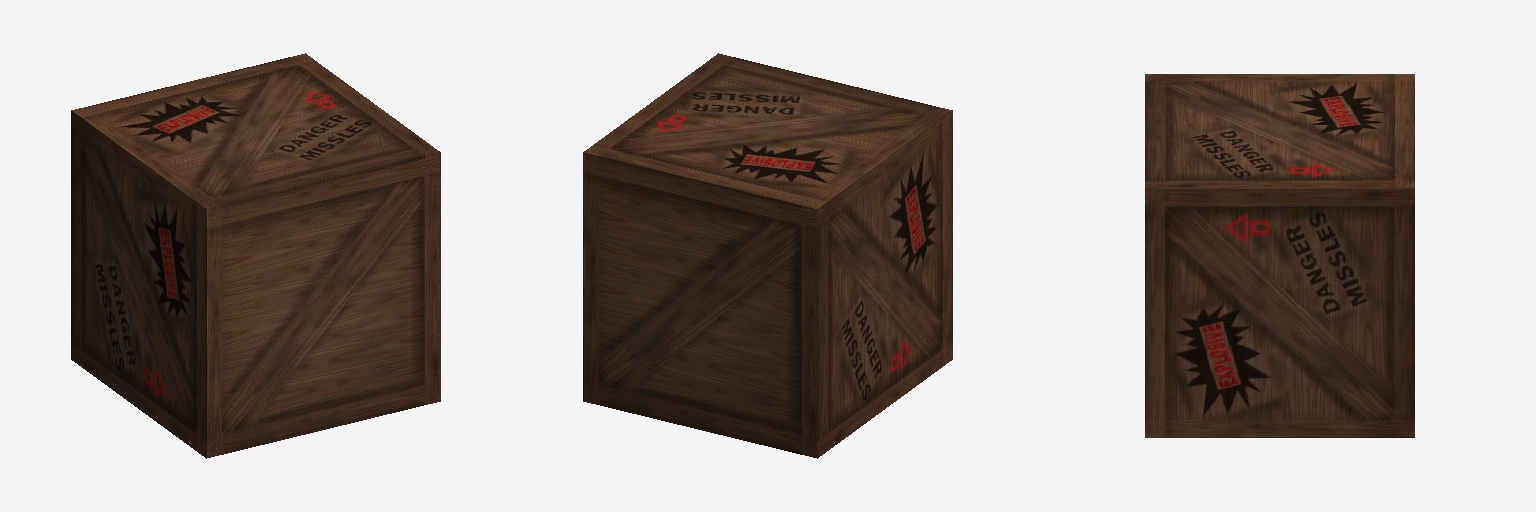
3 views of the same model, side by side, from view 1: azimuth 30°, elevation 25°; view 2: azimuth 150°, elevation 25°; view 3: azimuth 270°, elevation 25° (orthographic).
Visible parts, largest first — view 1: Cube; view 2: Cube; view 3: Cube.
Boxes of the visible parts, <box> form: Cube: <box>71,53,440,458</box>; Cube: <box>583,53,952,458</box>; Cube: <box>1145,74,1414,437</box>.
Bounding box in the file's own units: 2.18 × 2.22 × 2.18.
1 materials, 1 textured.